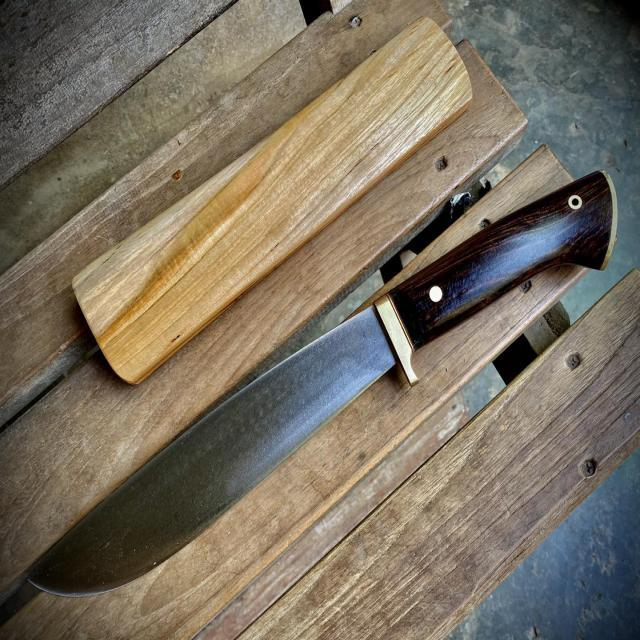short sword: (22, 160, 620, 604)
